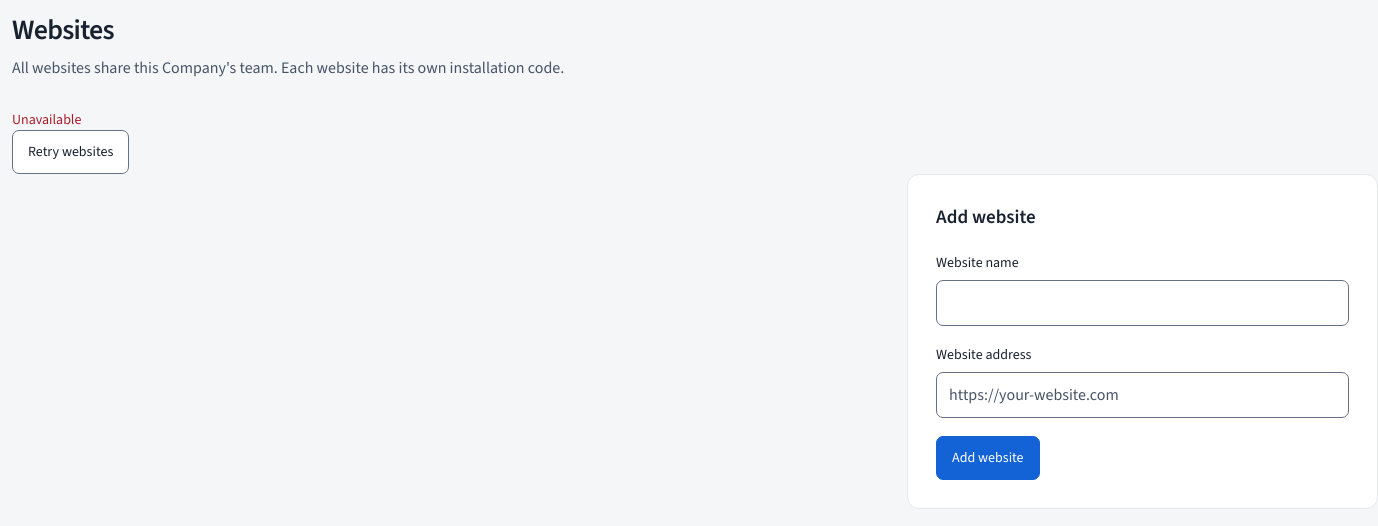
retries failed listing without losing the add form
The image size is (1378, 526).
Expected: the message "Unavailable" is shown, [12,110,81,129]
Click the button "Retry websites". click: (71, 152)
box: [12,130,129,174]
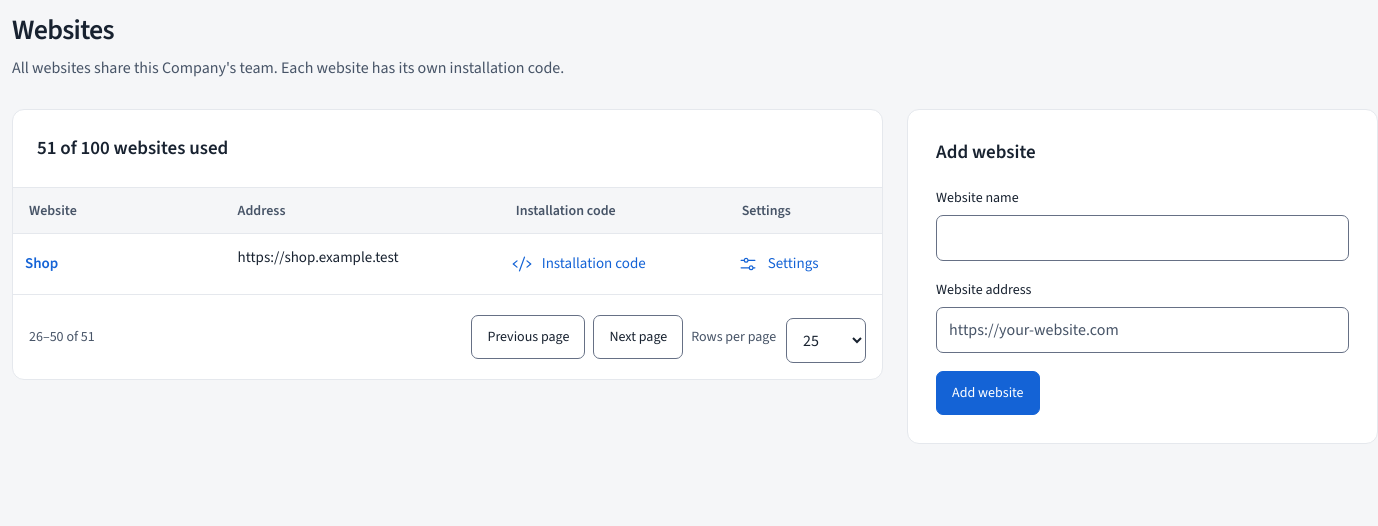
Expected: the field labelled "Website address" is shown, [936,307,1349,353]
Expected: the link "Shop" is shown, [25,253,58,273]
